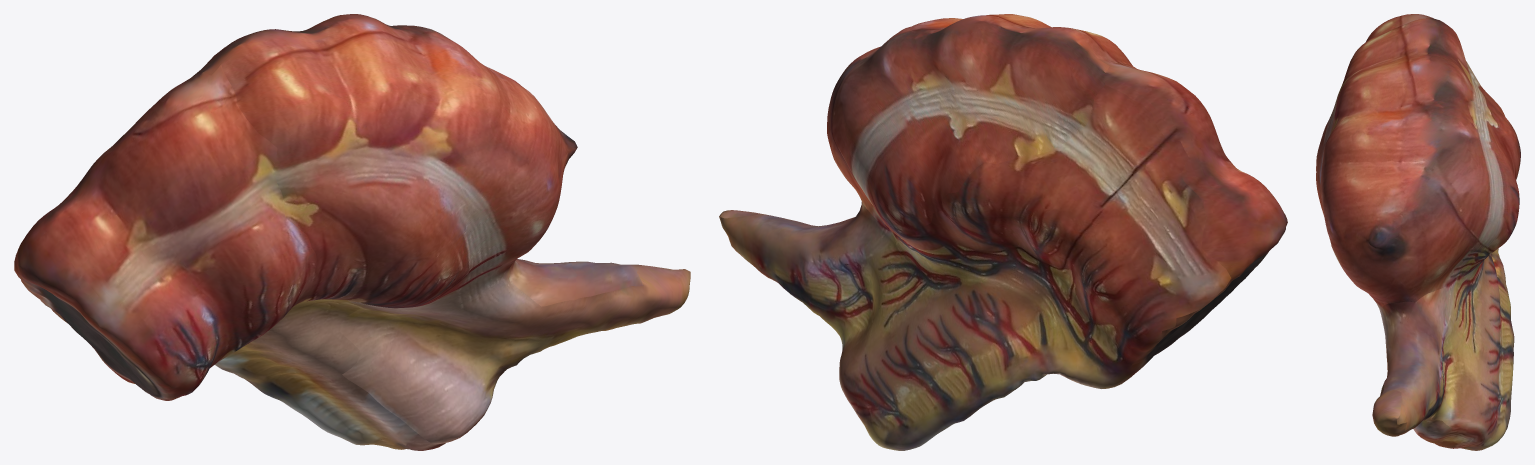
The model's file is appendix.glb.
3 renders of one model, left to right at view 1: azimuth 30°, elevation 25°; view 2: azimuth 150°, elevation 25°; view 3: azimuth 270°, elevation 25°, orthographic. The views are drawn at different scales.
Visible parts, largest first — view 1: udambu; view 2: udambu; view 3: udambu.
Part boxes in pixels (x1,y1,x2,y2): udambu: (14, 14, 690, 450); udambu: (719, 14, 1287, 450); udambu: (1316, 14, 1520, 450).
Size of the model in its own units: 0.6 by 0.4241 by 0.2152.
Materials: 1 (1 with a texture image).
